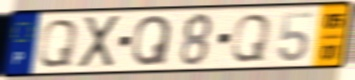5: (277, 10, 315, 64)
8: (178, 12, 215, 68)
Q: (130, 14, 174, 69), (228, 12, 274, 64), (35, 17, 81, 69)
X: (77, 14, 122, 71)
